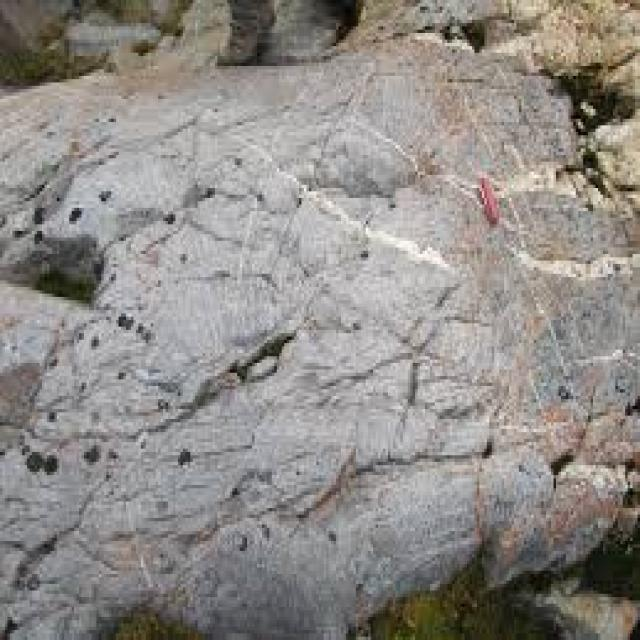Metamorphic: (2, 86, 620, 587)
